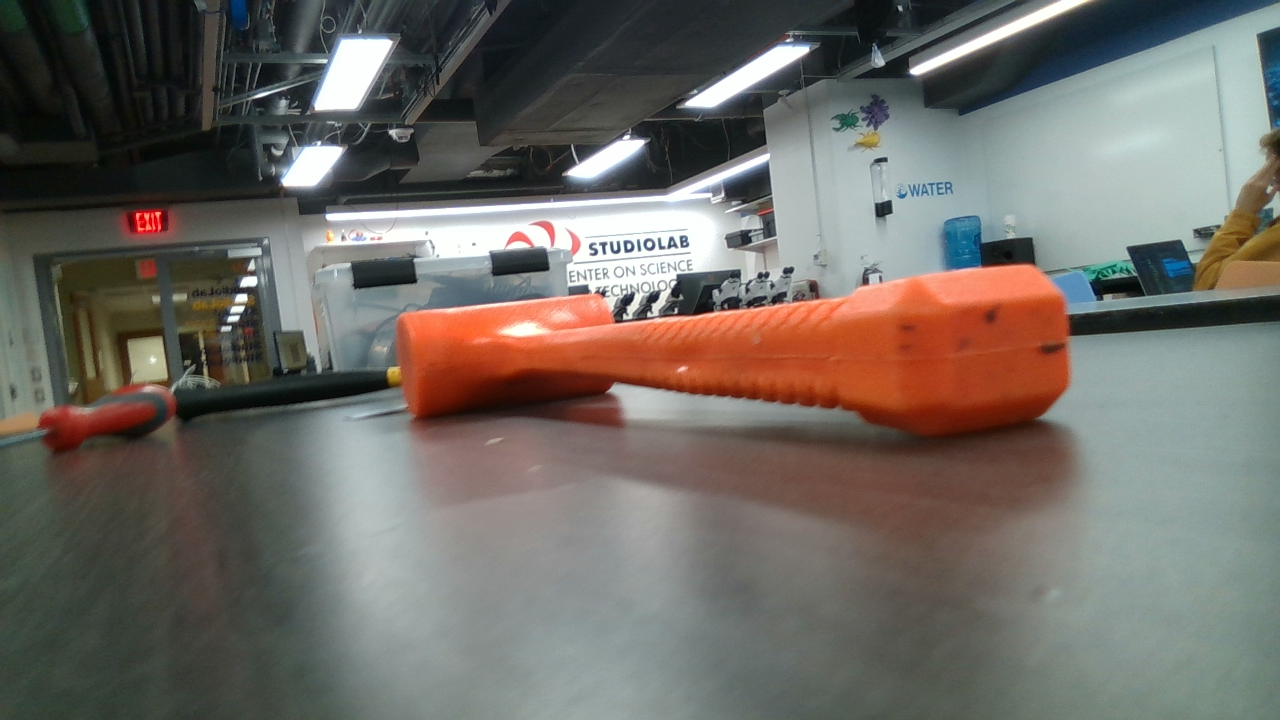Orange Hammer: (403, 263, 1062, 437)
